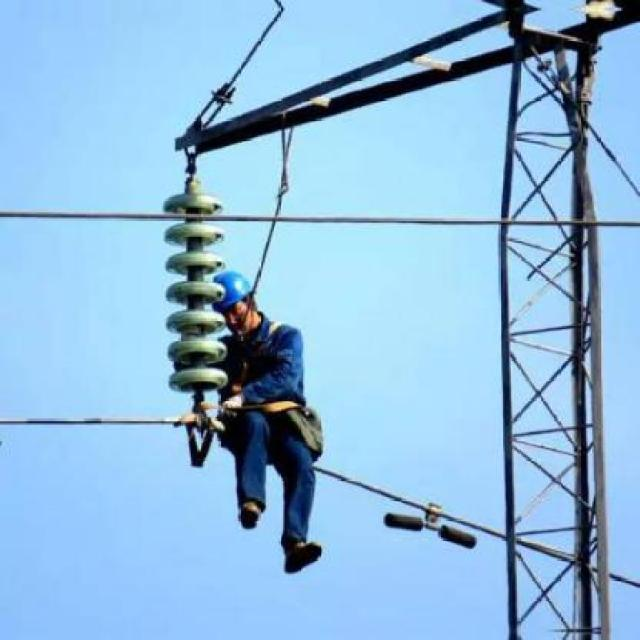helmet: (206, 267, 256, 327)
